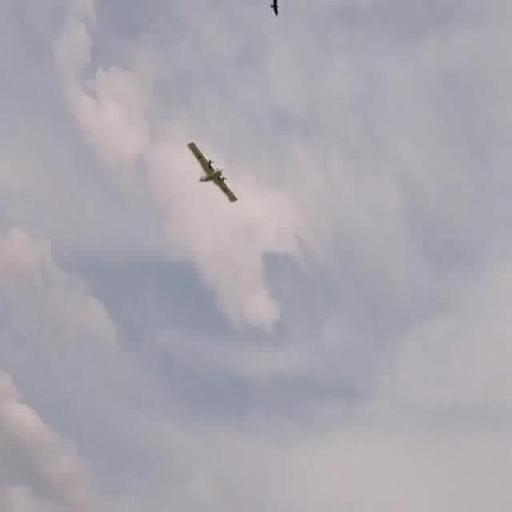uav: (186, 136, 240, 210)
